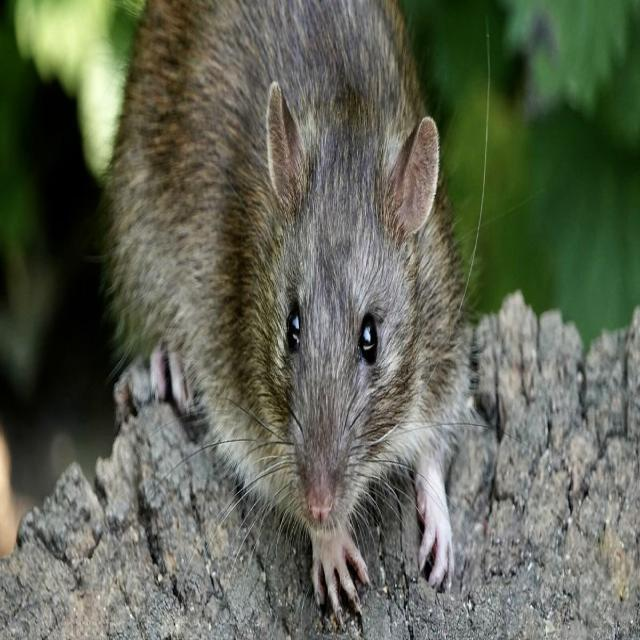rat: (103, 0, 476, 612)
